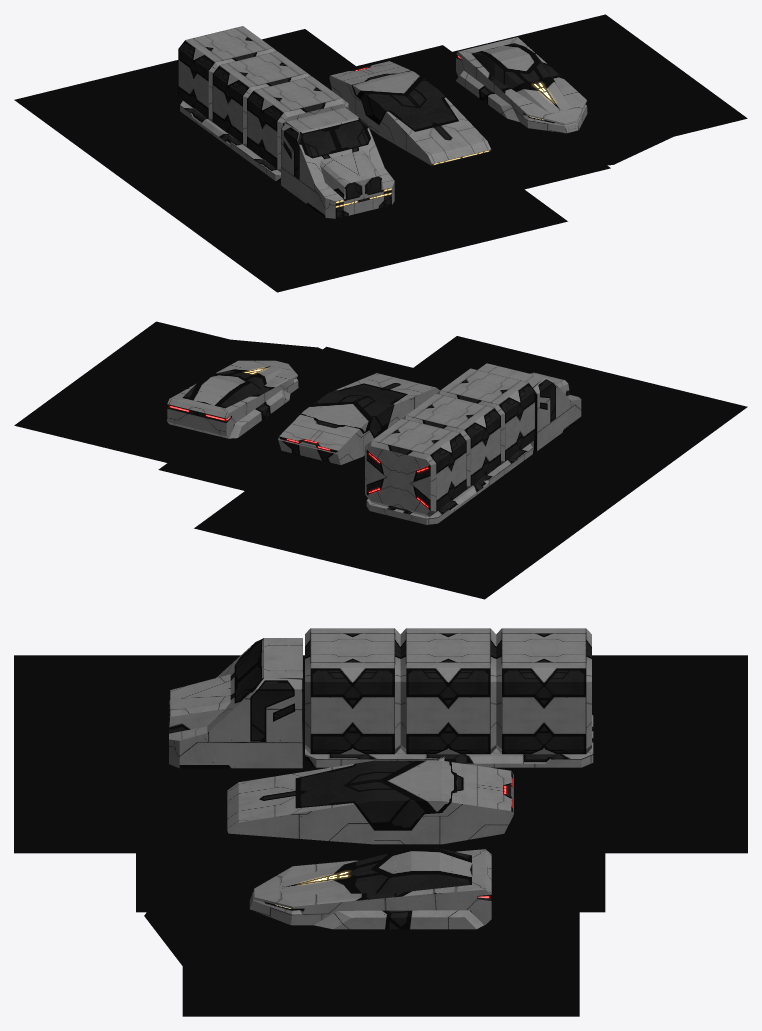
The model's file is sci-fi_LODs_set_005.fbx.
3 renders of one model, top to bottom at view 1: azimuth 30°, elevation 25°; view 2: azimuth 150°, elevation 25°; view 3: azimuth 270°, elevation 25°, orthographic. The views are drawn at different scales.
Visible parts, largest first — view 1: shadow_1.003, shadow_2.007, sci-fi_LODs_set_005_03, sci-fi_LODs_set_005_02, sci-fi_LODs_set_005_01, shadow_2.006; view 2: shadow_1.003, shadow_2.007, sci-fi_LODs_set_005_03, sci-fi_LODs_set_005_02, sci-fi_LODs_set_005_01, shadow_2.006; view 3: shadow_1.003, shadow_2.007, sci-fi_LODs_set_005_03, sci-fi_LODs_set_005_02, shadow_2.006, sci-fi_LODs_set_005_01.
Part boxes in pixels (x1=…): shadow_1.003: x1=14, y1=29, x2=567, y2=292; shadow_2.007: x1=322, y1=14, x2=747, y2=190; sci-fi_LODs_set_005_03: x1=178, y1=26, x2=394, y2=218; sci-fi_LODs_set_005_02: x1=329, y1=61, x2=491, y2=165; sci-fi_LODs_set_005_01: x1=456, y1=37, x2=587, y2=133; shadow_2.006: x1=313, y1=45, x2=610, y2=223; shadow_1.003: x1=194, y1=336, x2=747, y2=599; shadow_2.007: x1=14, y1=321, x2=374, y2=497; sci-fi_LODs_set_005_03: x1=365, y1=363, x2=581, y2=524; sci-fi_LODs_set_005_02: x1=278, y1=373, x2=439, y2=464; sci-fi_LODs_set_005_01: x1=166, y1=360, x2=298, y2=438; shadow_2.006: x1=158, y1=346, x2=456, y2=525; shadow_1.003: x1=14, y1=655, x2=747, y2=853; shadow_2.007: x1=144, y1=815, x2=579, y2=1016; sci-fi_LODs_set_005_03: x1=169, y1=628, x2=593, y2=768; sci-fi_LODs_set_005_02: x1=227, y1=760, x2=513, y2=844; shadow_2.006: x1=136, y1=757, x2=605, y2=912; sci-fi_LODs_set_005_01: x1=249, y1=847, x2=491, y2=929.
Size of the model in its own units: 1788 by 240 by 1534.
Materials: 3 (2 with a texture image).
